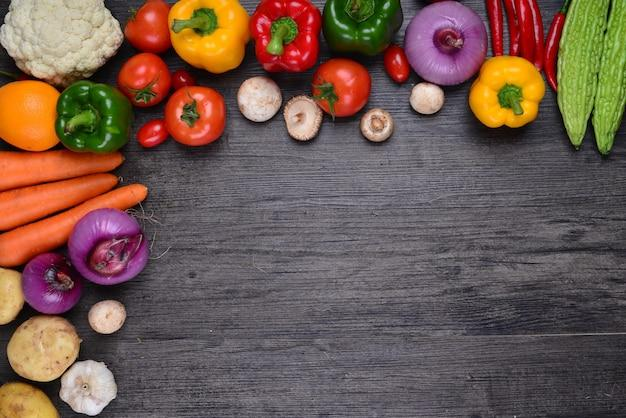bell pepper: (467, 56, 558, 141), (165, 0, 257, 73), (264, 8, 330, 72), (335, 2, 404, 55)
bitter guard: (558, 0, 626, 162)
carrot: (0, 186, 145, 271), (1, 172, 122, 232), (0, 150, 121, 190), (0, 82, 61, 154)
cauliflower: (5, 0, 130, 84)
onion: (406, 0, 494, 95)
potato: (8, 307, 113, 401)
tomato: (168, 82, 232, 149), (122, 43, 172, 113), (316, 71, 372, 116)
